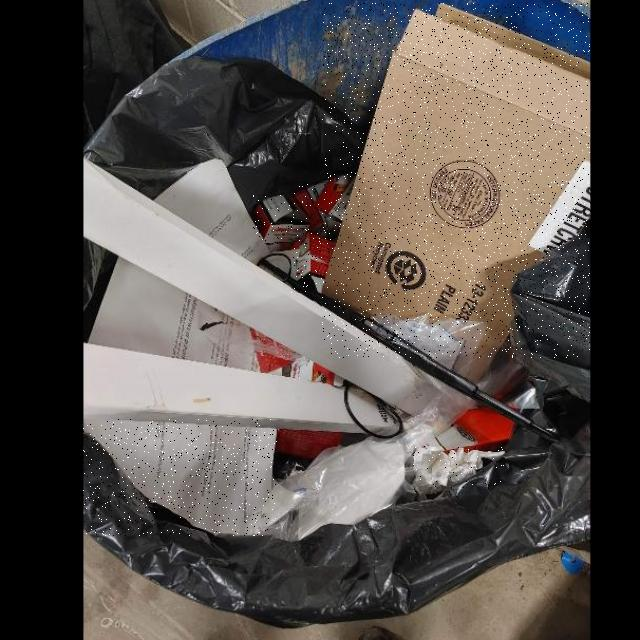paper: (322, 4, 590, 358), (84, 419, 277, 536), (413, 447, 505, 488), (254, 195, 310, 244), (292, 233, 335, 293), (293, 182, 332, 232)
